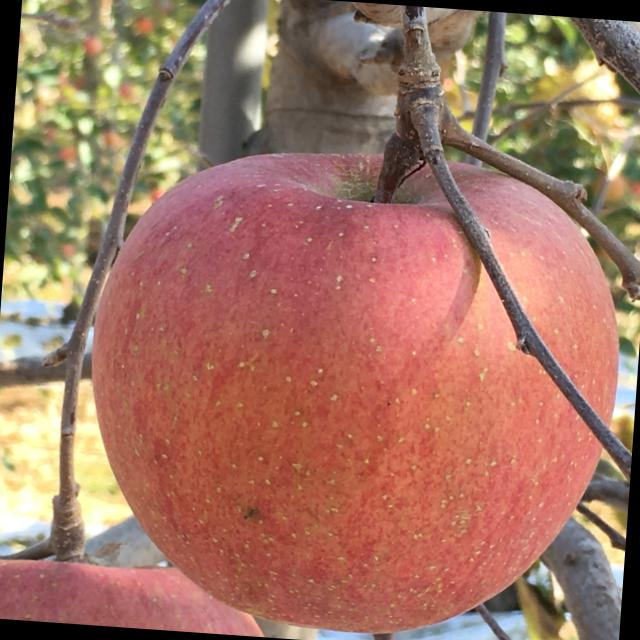fresh: (63, 120, 638, 640)
